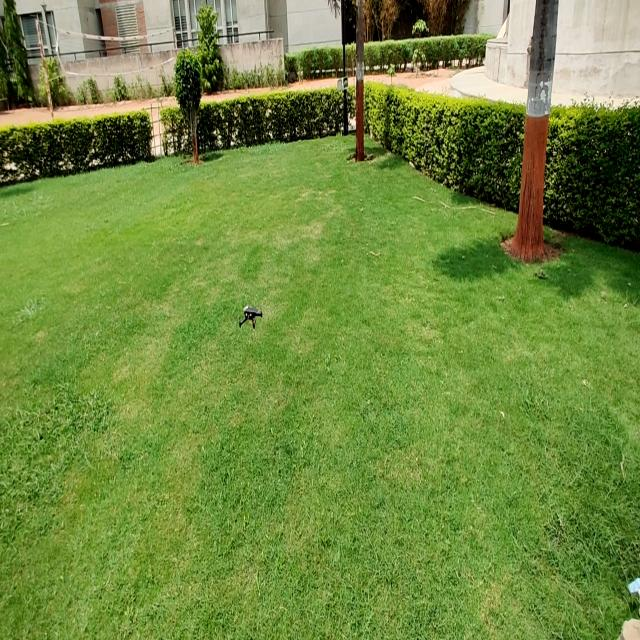drone: (230, 302, 266, 338)
